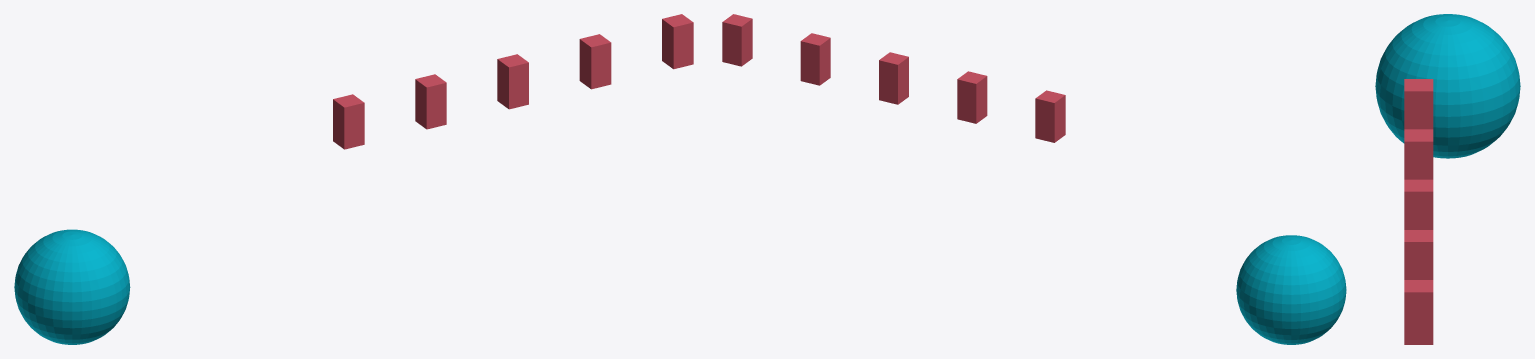
The model's file is microbit_V2_simple2_sensors.glb.
The picture shows the model from 3 angles, left to right: view 1: azimuth 30°, elevation 25°; view 2: azimuth 150°, elevation 25°; view 3: azimuth 270°, elevation 25°; orthographic projection. The views are drawn at different scales.
Parts seen in each view (by area): view 1: Mesh_Mesh_head_geo.001_lambert2SG.001; view 2: Mesh_Mesh_head_geo.001_lambert2SG.001; view 3: Mesh_Mesh_head_geo.001_lambert2SG.001.
Boxes of the visible parts, left/top/right/bottom form: Mesh_Mesh_head_geo.001_lambert2SG.001: left=14, top=14, right=693, bottom=344; Mesh_Mesh_head_geo.001_lambert2SG.001: left=722, top=14, right=1346, bottom=344; Mesh_Mesh_head_geo.001_lambert2SG.001: left=1375, top=14, right=1520, bottom=344.
Bounding box in the file's own units: 32.6 × 8.7 × 5.
